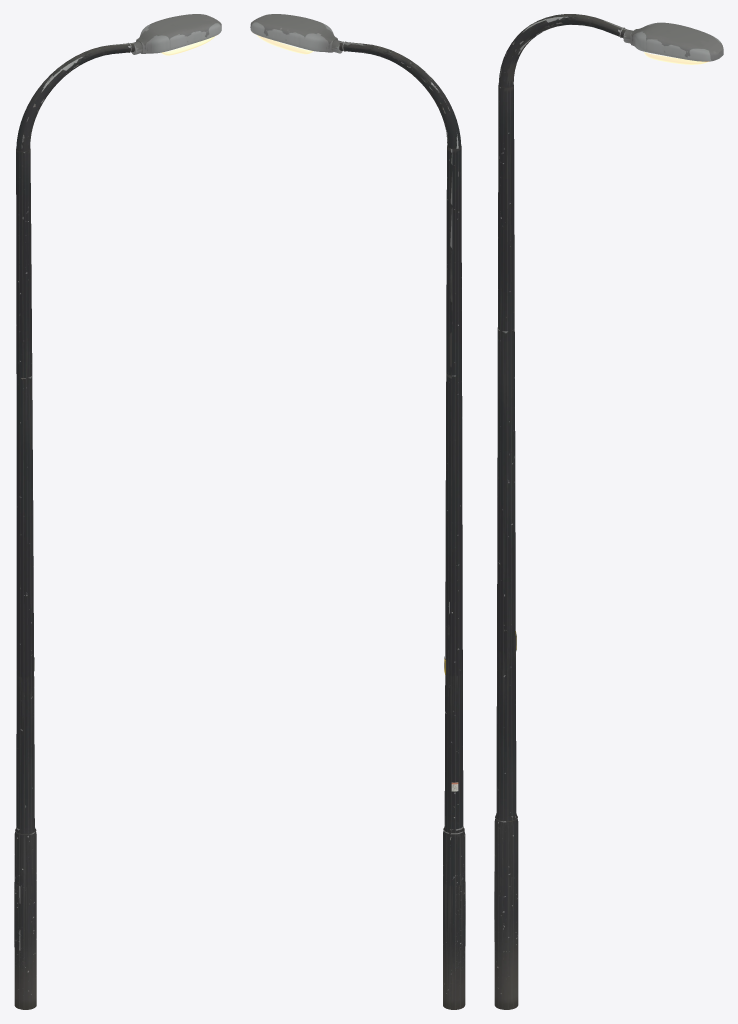
The model's file is streetlight-curved-01.glb.
The picture shows the model from 3 angles, left to right: view 1: azimuth 30°, elevation 25°; view 2: azimuth 150°, elevation 25°; view 3: azimuth 330°, elevation 25°; orthographic projection. The views are drawn at different scales.
Parts seen in each view (by area): view 1: Pole_LOD0, LampHousing_LOD0, Arm_LOD0; view 2: Pole_LOD0, LampHousing_LOD0, Arm_LOD0; view 3: Pole_LOD0, LampHousing_LOD0, Arm_LOD0.
Part boxes in pixels (x1,y1,x2,y2): Pole_LOD0: (14,149,36,1009); LampHousing_LOD0: (131,14,221,54); Arm_LOD0: (16,42,134,176); Pole_LOD0: (443,145,465,1009); LampHousing_LOD0: (250,14,342,53); Arm_LOD0: (339,41,461,176); Pole_LOD0: (494,85,518,1009); LampHousing_LOD0: (623,22,723,61); Arm_LOD0: (498,14,627,88).
Size of what is drawn, in the model's own units: 1.55 by 6.74 by 0.2643.
4 materials, 1 textured.
